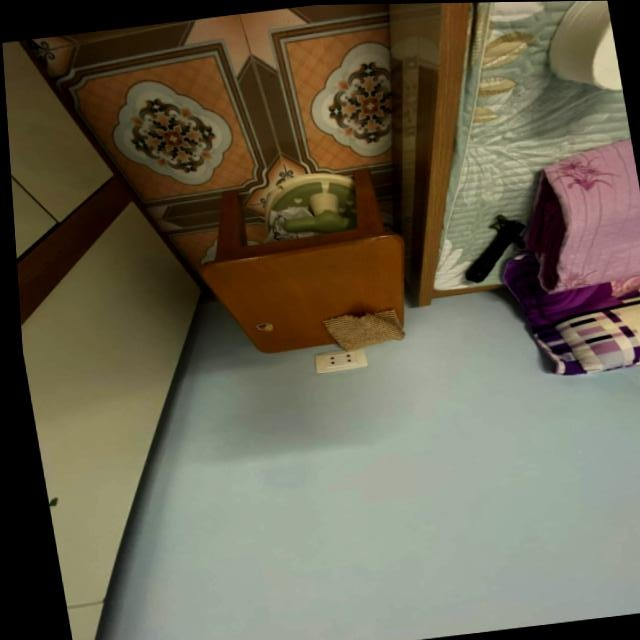outlet: (314, 347, 369, 373)
